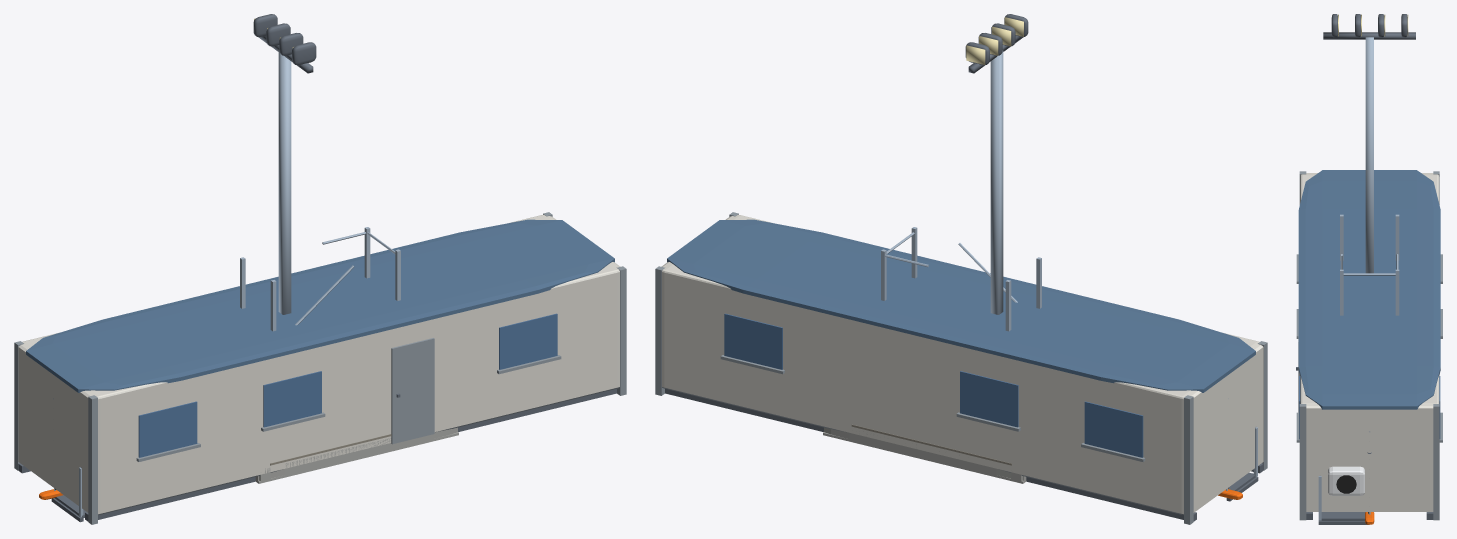
Rendered from site.glb.
3 renders of one model, left to right at view 1: azimuth 30°, elevation 25°; view 2: azimuth 150°, elevation 25°; view 3: azimuth 270°, elevation 25°, orthographic. The views are drawn at different scales.
Visible parts, largest first — view 1: ShedUnit, LightTower, WashoutBay, ShedStair; view 2: ShedUnit, LightTower, WashoutBay, ShedStair; view 3: ShedUnit, LightTower, ShedStair, ShedWalkway.
Part boxes in pixels (x1=…): ShedUnit: x1=14, y1=212, x2=626, y2=524; LightTower: x1=253, y1=14, x2=316, y2=314; WashoutBay: x1=255, y1=427, x2=458, y2=483; ShedStair: x1=240, y1=227, x2=400, y2=331; ShedUnit: x1=655, y1=212, x2=1267, y2=524; LightTower: x1=965, y1=14, x2=1028, y2=314; WashoutBay: x1=823, y1=424, x2=1026, y2=483; ShedStair: x1=881, y1=227, x2=1041, y2=331; ShedUnit: x1=1296, y1=170, x2=1442, y2=520; LightTower: x1=1323, y1=14, x2=1415, y2=273; ShedStair: x1=1340, y1=214, x2=1399, y2=315; ShedWalkway: x1=1318, y1=475, x2=1369, y2=524.
Bounding box in the file's own units: 12.64 × 9 × 3.17.
